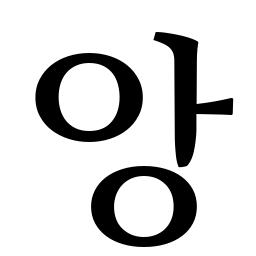Gaji: (163, 89, 212, 135)
